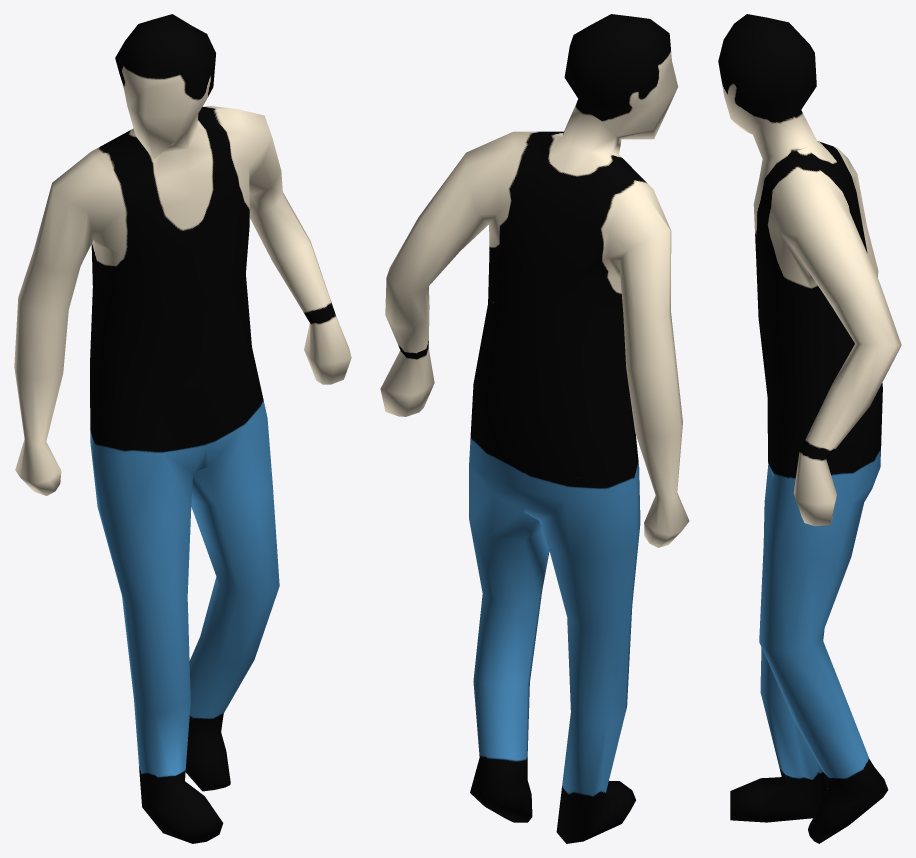
3 views of the same model, side by side, from view 1: azimuth 30°, elevation 25°; view 2: azimuth 150°, elevation 25°; view 3: azimuth 270°, elevation 25° (orthographic). The views are drawn at different scales.
Parts seen in each view (by area): view 1: Group1_defaultMat_0; view 2: Group1_defaultMat_0; view 3: Group1_defaultMat_0.
Boxes of the visible parts, box(x1,y1,x2,y2) form: Group1_defaultMat_0: box(14, 14, 351, 843); Group1_defaultMat_0: box(380, 14, 689, 843); Group1_defaultMat_0: box(718, 14, 901, 843).
Size of the model in its own units: 156 by 387 by 81.51.
1 material, 1 textured.
